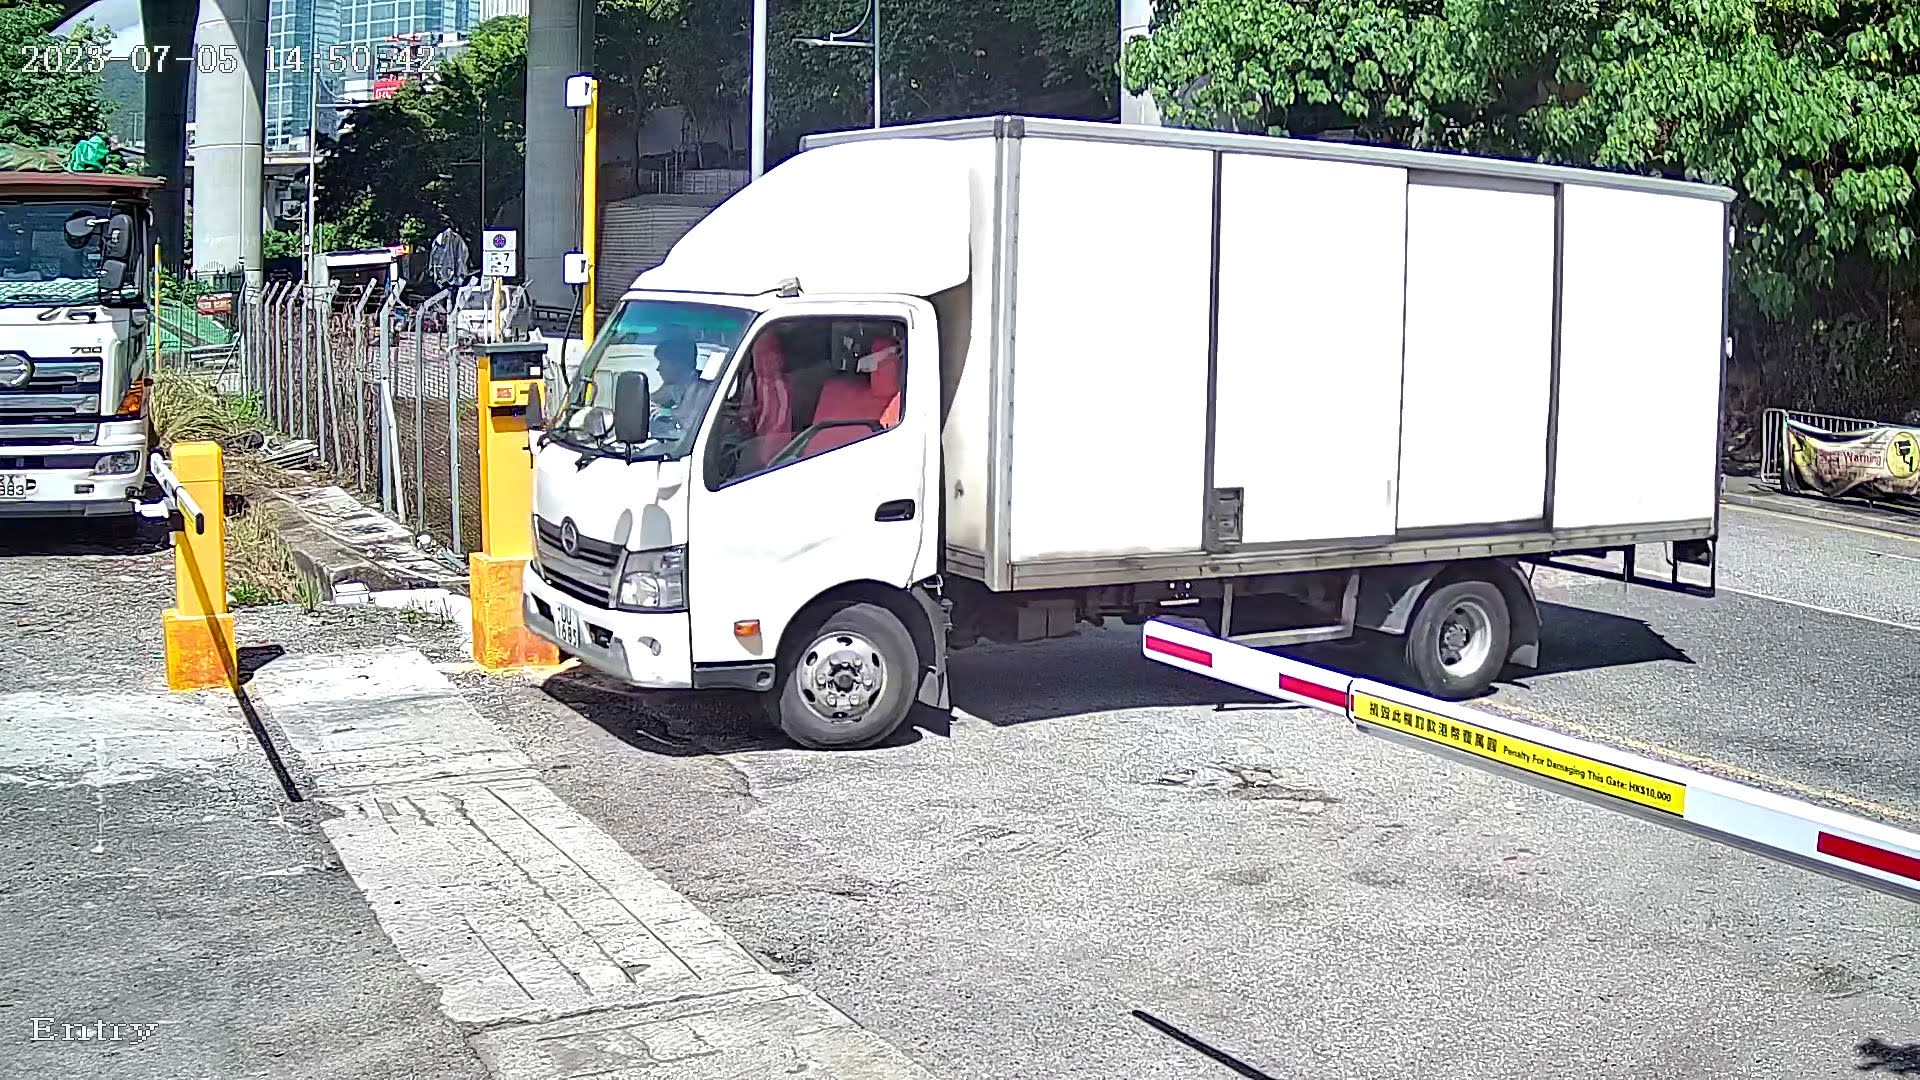truck_small: (493, 73, 1771, 791)
